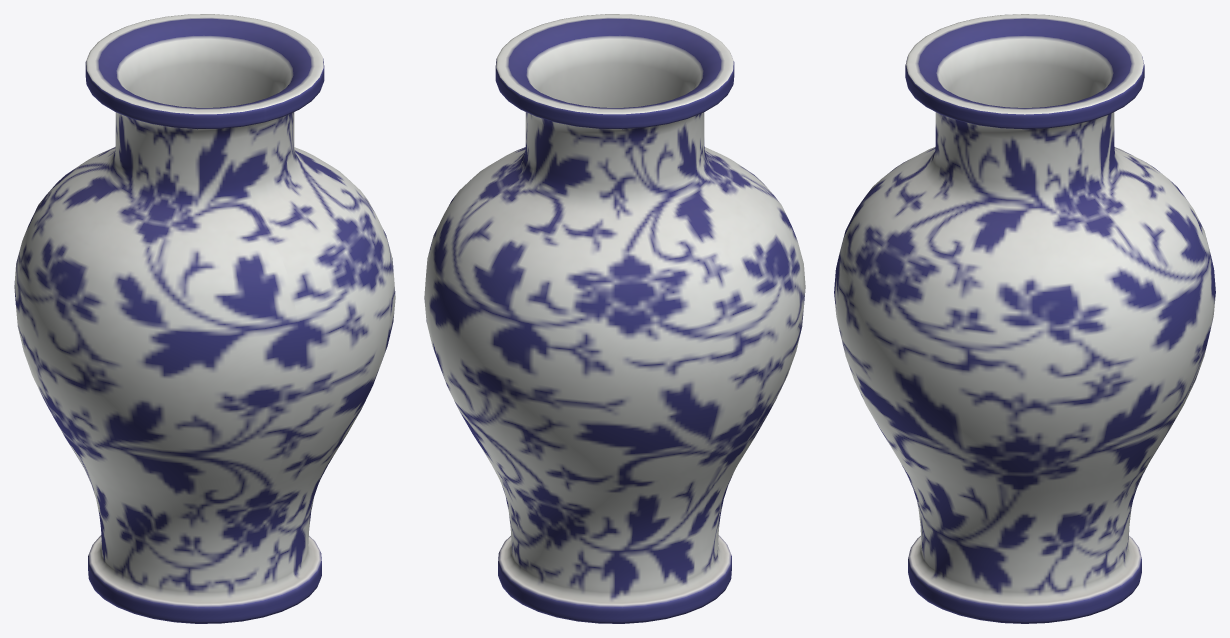
File: qinghuaci.glb
3 renders of one model, left to right at view 1: azimuth 30°, elevation 25°; view 2: azimuth 150°, elevation 25°; view 3: azimuth 270°, elevation 25°, orthographic.
Parts seen in each view (by area): view 1: CH_00_TraIte_Chinaware_04_CH_00_TraIte_Chinaware_Mat_0; view 2: CH_00_TraIte_Chinaware_04_CH_00_TraIte_Chinaware_Mat_0; view 3: CH_00_TraIte_Chinaware_04_CH_00_TraIte_Chinaware_Mat_0.
Boxes of the visible parts, <box> form: CH_00_TraIte_Chinaware_04_CH_00_TraIte_Chinaware_Mat_0: <box>14,14,395,623</box>; CH_00_TraIte_Chinaware_04_CH_00_TraIte_Chinaware_Mat_0: <box>424,14,805,623</box>; CH_00_TraIte_Chinaware_04_CH_00_TraIte_Chinaware_Mat_0: <box>834,14,1215,623</box>.
Bounding box in the file's own units: 0.1779 × 0.263 × 0.1779.
1 material, 1 textured.
